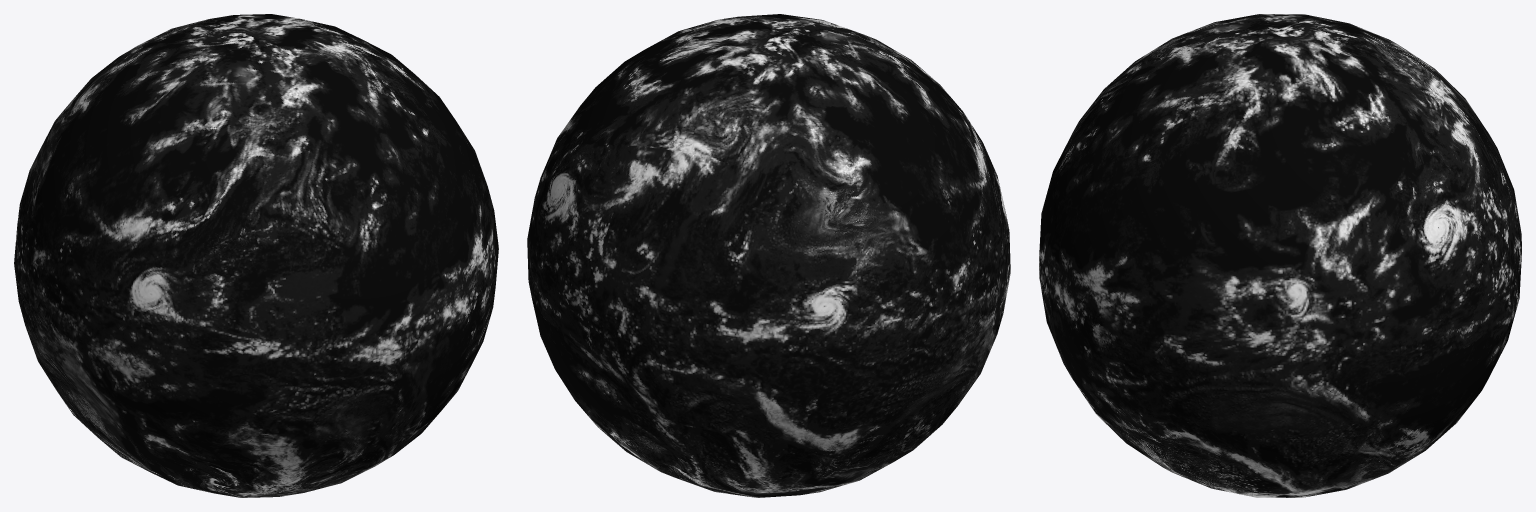
The model's file is Planet.fbx.
3 renders of one model, left to right at view 1: azimuth 30°, elevation 25°; view 2: azimuth 150°, elevation 25°; view 3: azimuth 270°, elevation 25°, orthographic.
Parts seen in each view (by area): view 1: Earth; view 2: Earth; view 3: Earth.
Part boxes in pixels (box(x1,y1,x2,y2)): Earth: box(14, 14, 498, 497); Earth: box(527, 14, 1010, 497); Earth: box(1039, 14, 1521, 497).
Size of the model in its own units: 635 by 637 by 635.
Materials: 2 (2 with a texture image).
